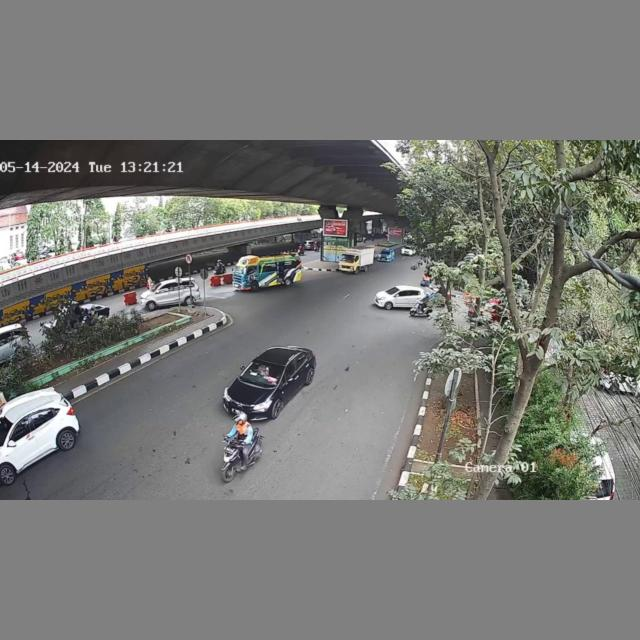windshield: (243, 359, 284, 388)
